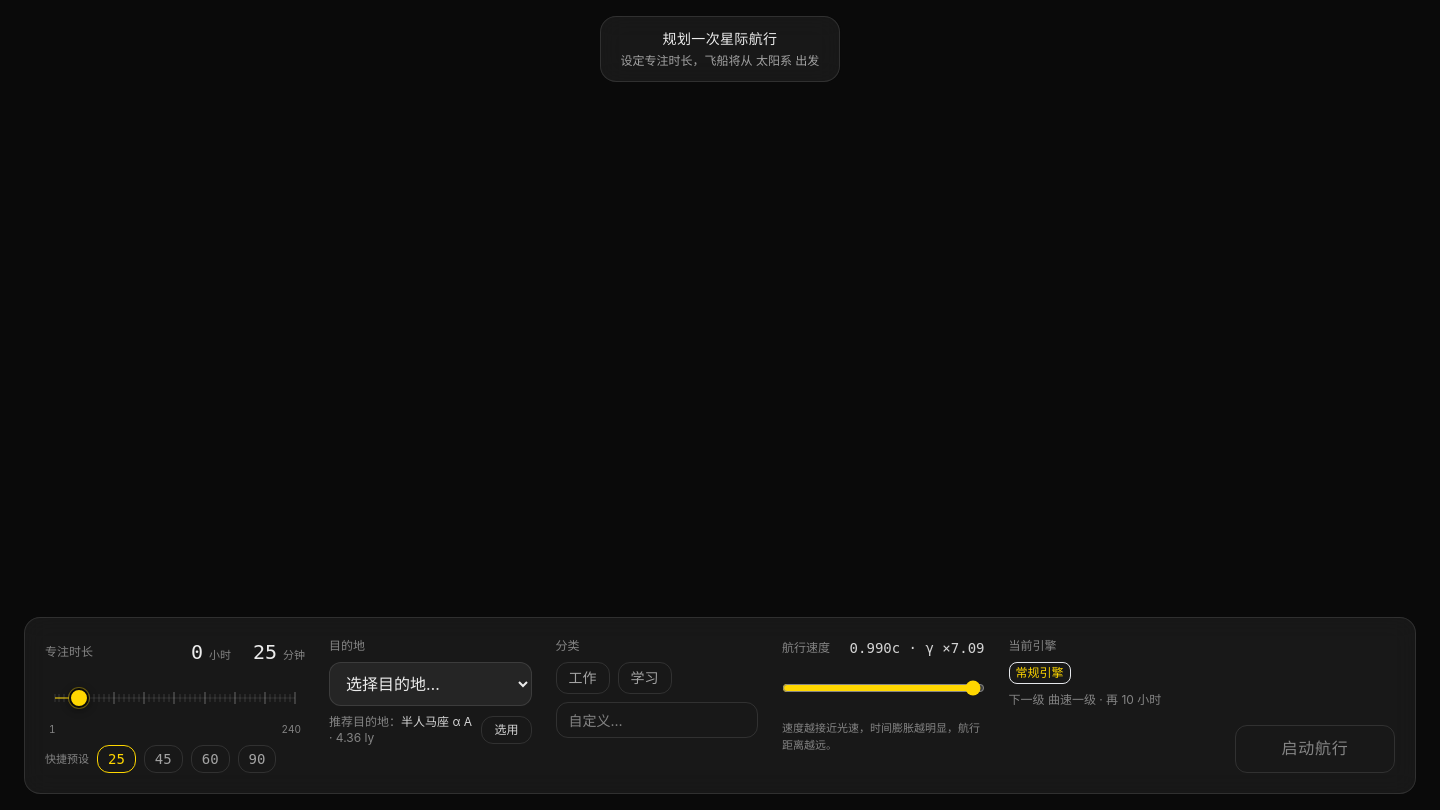
SetupPanel › 点击快捷预设 45 → 当前分钟与 defaultFocusMinutes 同步为 45（S33）
What coordinates should you click on to do the following:
click the button "45"
I would click on:
 (163, 759)
Its box is [144, 745, 183, 773].
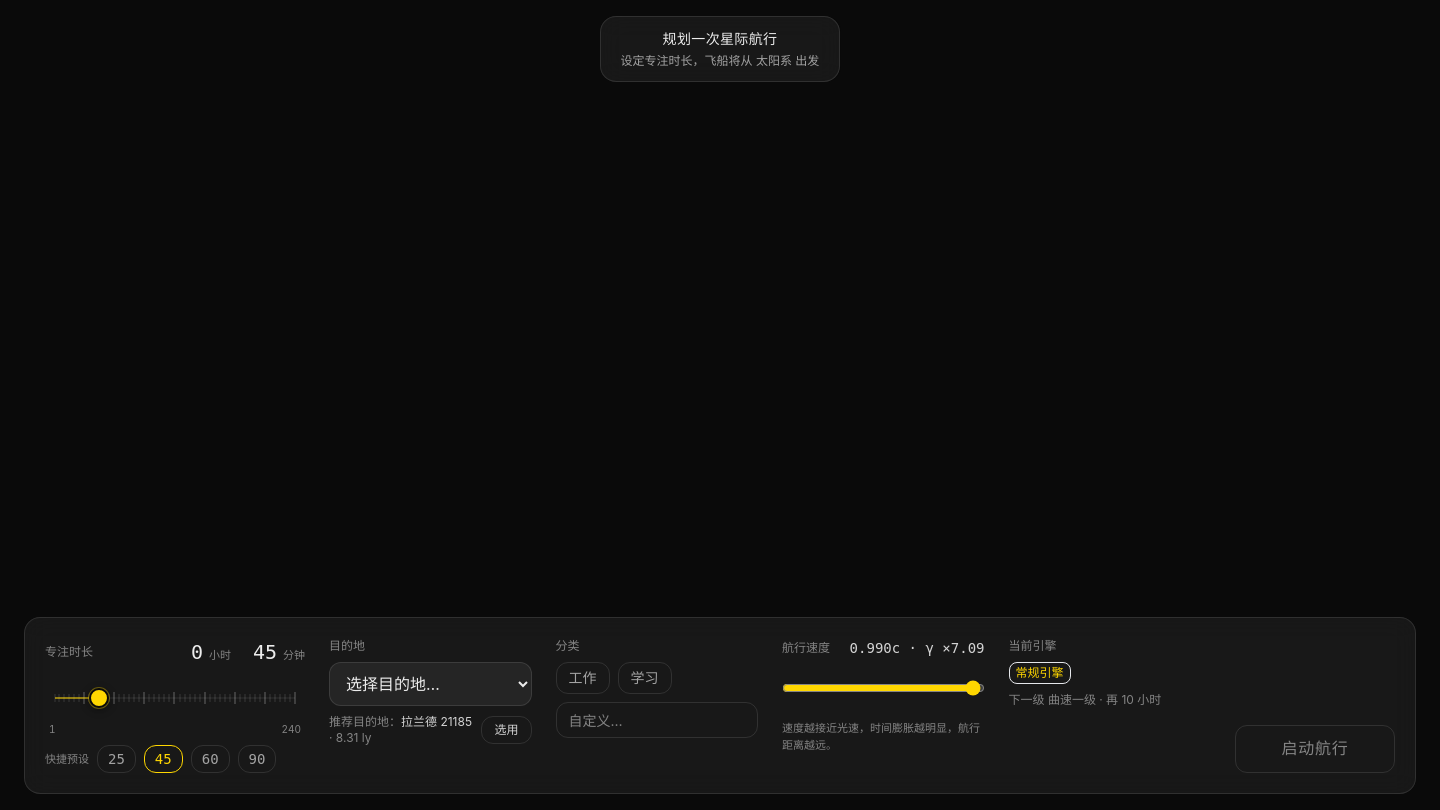
Check: the number field named "自定义专注时长（分钟）" holds "45", box [237, 638, 277, 666]
